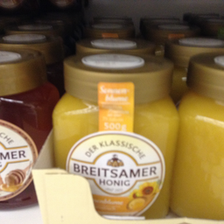honey: (49, 52, 180, 223)
